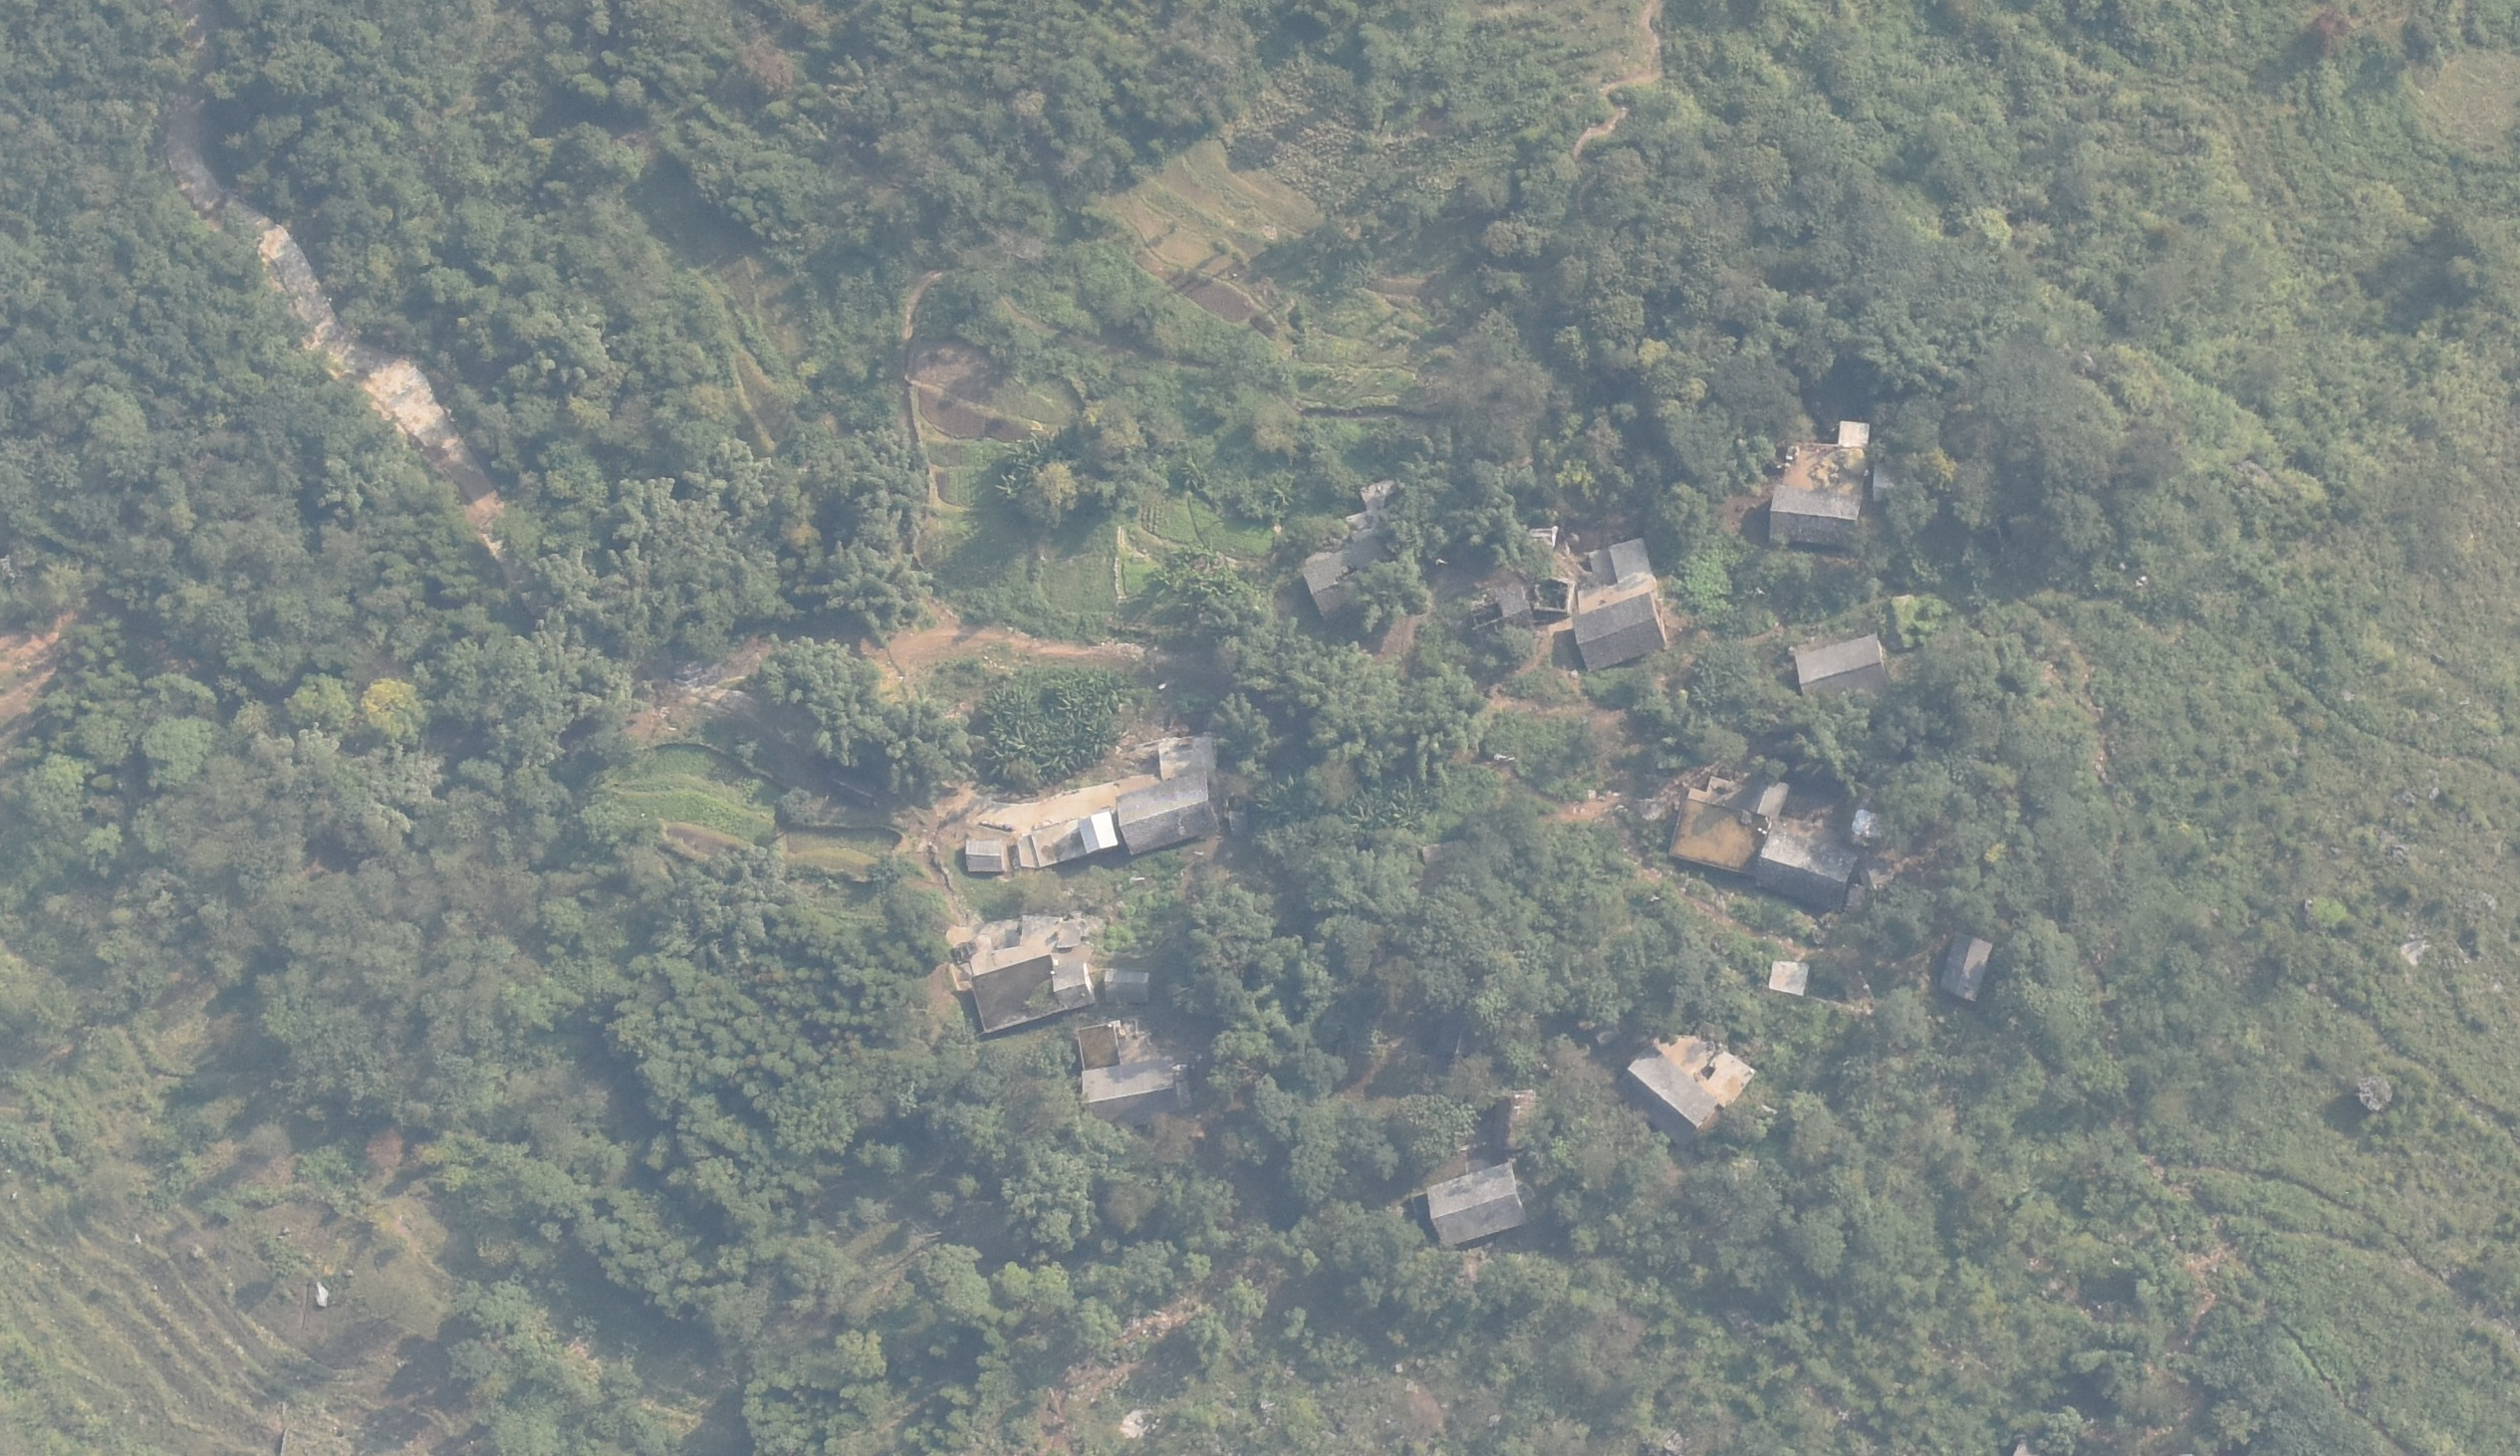building: (1671, 757, 1797, 884), (1062, 1021, 1206, 1125), (1607, 1037, 1721, 1153), (1095, 770, 1236, 856), (950, 957, 1102, 1031), (1409, 1161, 1529, 1243), (1750, 822, 1856, 912), (1296, 543, 1413, 622), (1560, 596, 1681, 669), (1787, 636, 1901, 704), (1770, 478, 1872, 551), (1932, 926, 1991, 1000), (1014, 822, 1087, 872), (1584, 539, 1659, 588), (1097, 964, 1158, 1011), (958, 834, 1010, 877), (1764, 955, 1809, 1000), (1081, 804, 1116, 860)
